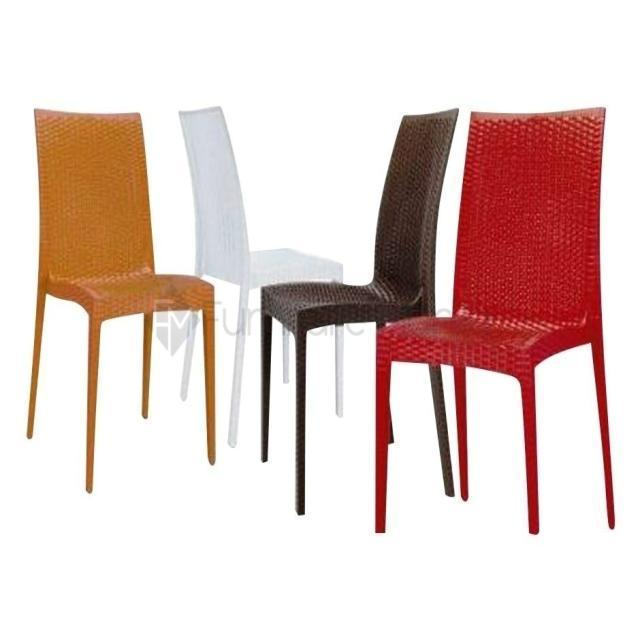chair: (372, 99, 618, 549), (254, 91, 455, 515), (27, 108, 220, 496), (181, 102, 346, 458)
